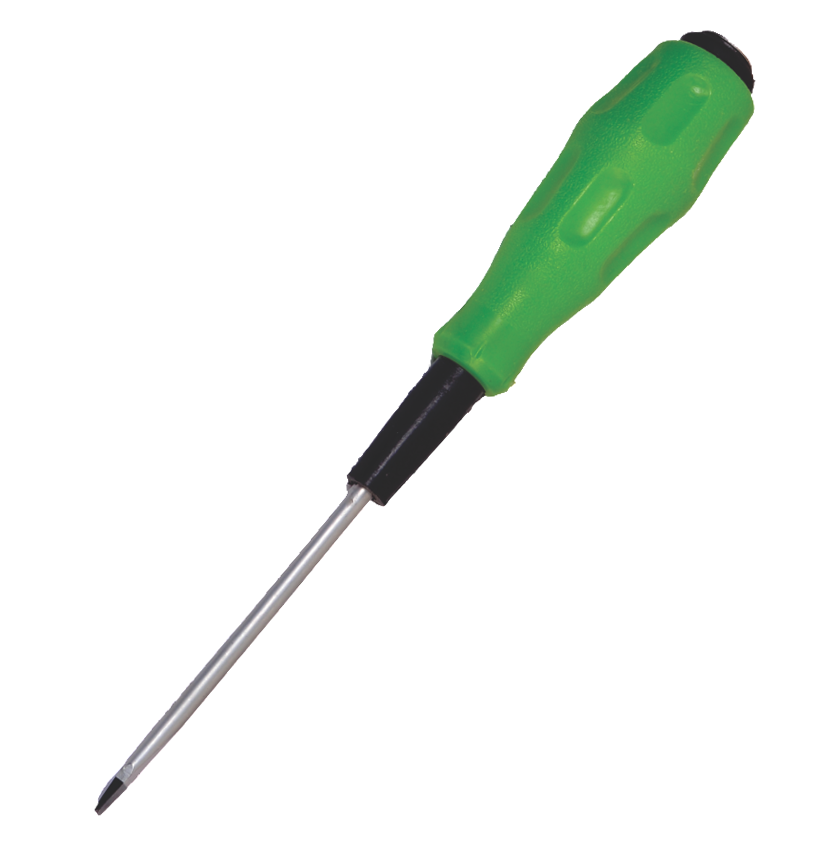screwdriver: (93, 29, 757, 816)
